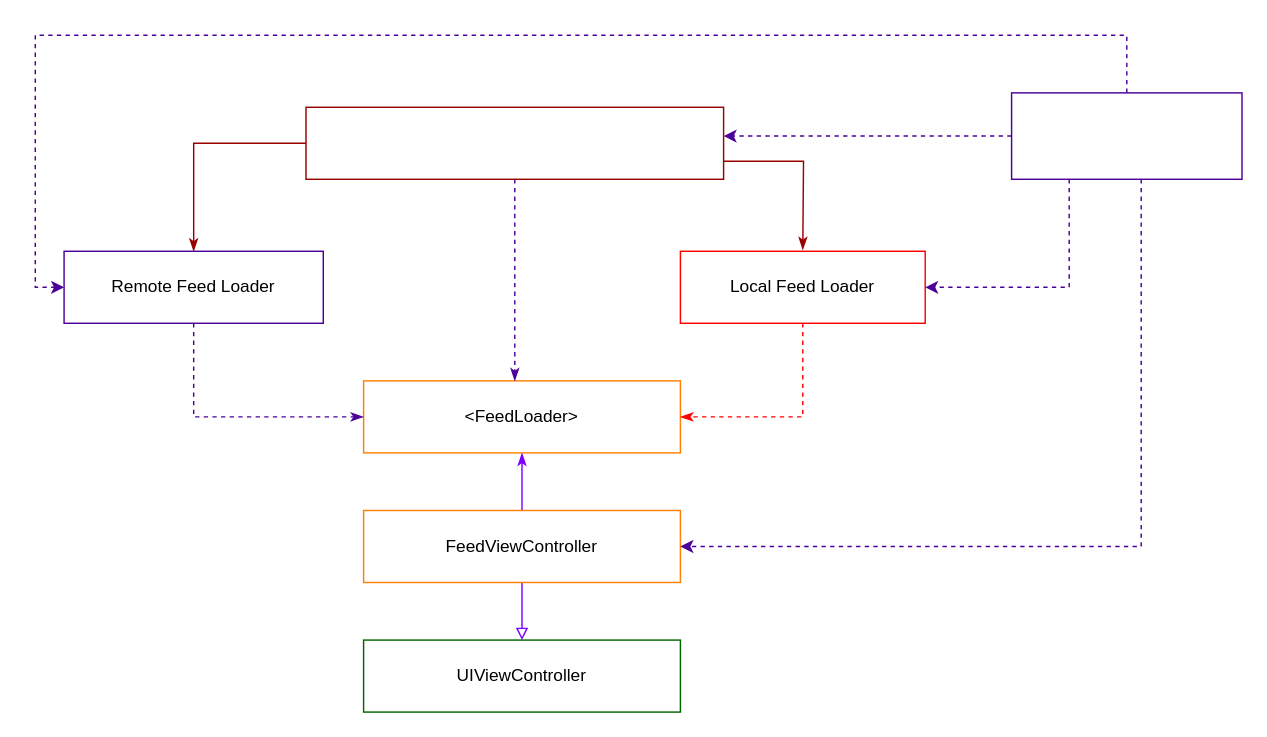
Image size: 1267x737. Some labels were removed from this diagram. Here are the shapes that lost their labels. From the top down, the centre of each, then its label:
At pixel 514 142: "RemoteWithLocalFallbackFeedLoader".
At pixel 1126 135: "Feed Assembler/Builder/Factory".
